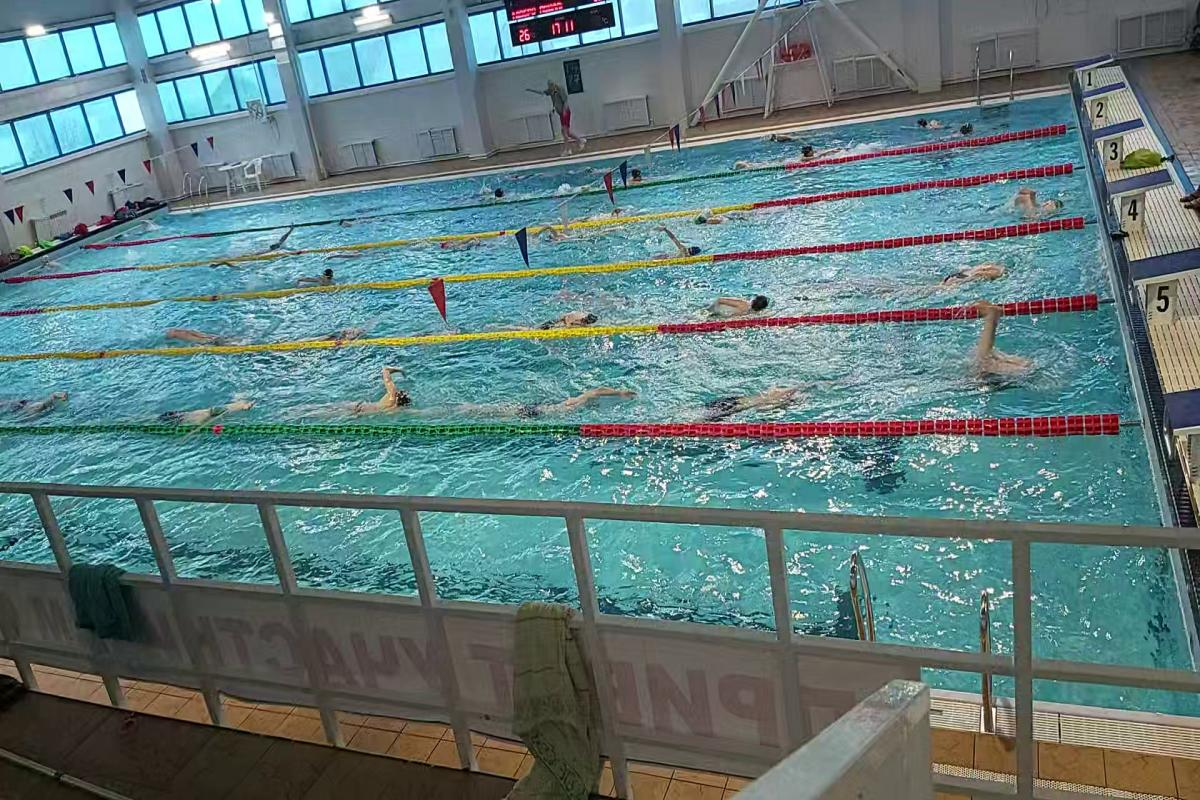swimmer: (471, 373, 643, 421), (703, 376, 823, 414), (326, 367, 418, 413), (157, 388, 257, 422), (694, 279, 782, 315), (159, 316, 256, 344), (532, 297, 605, 325), (8, 387, 69, 416), (309, 317, 373, 340), (652, 234, 705, 255), (294, 265, 346, 286), (691, 215, 761, 225)
